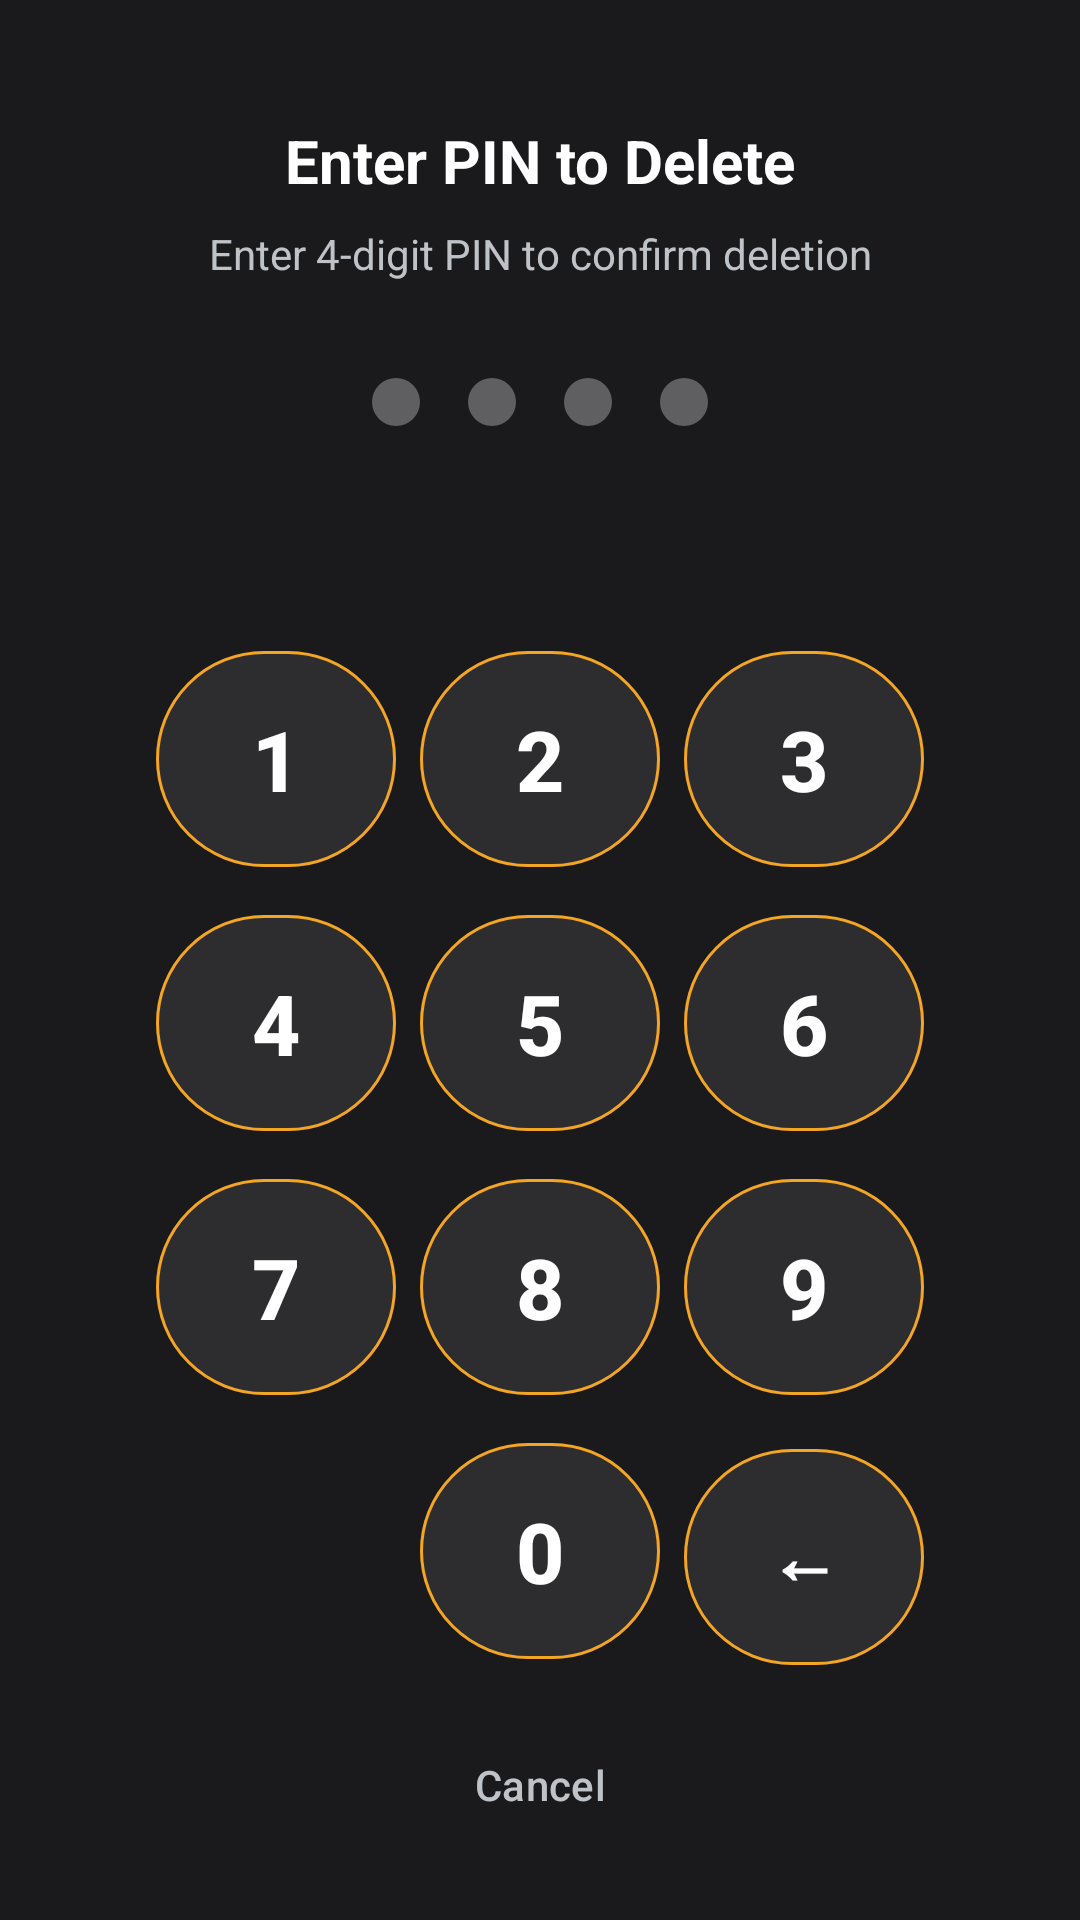

Locate icon controls on the screen. Image size 1080px×1920px, boxes as bbox=[x1, y1, x2, y2].
pin dot empty: bbox=[372, 378, 420, 426], bbox=[468, 378, 516, 426], bbox=[564, 378, 612, 426], bbox=[660, 378, 708, 426]
